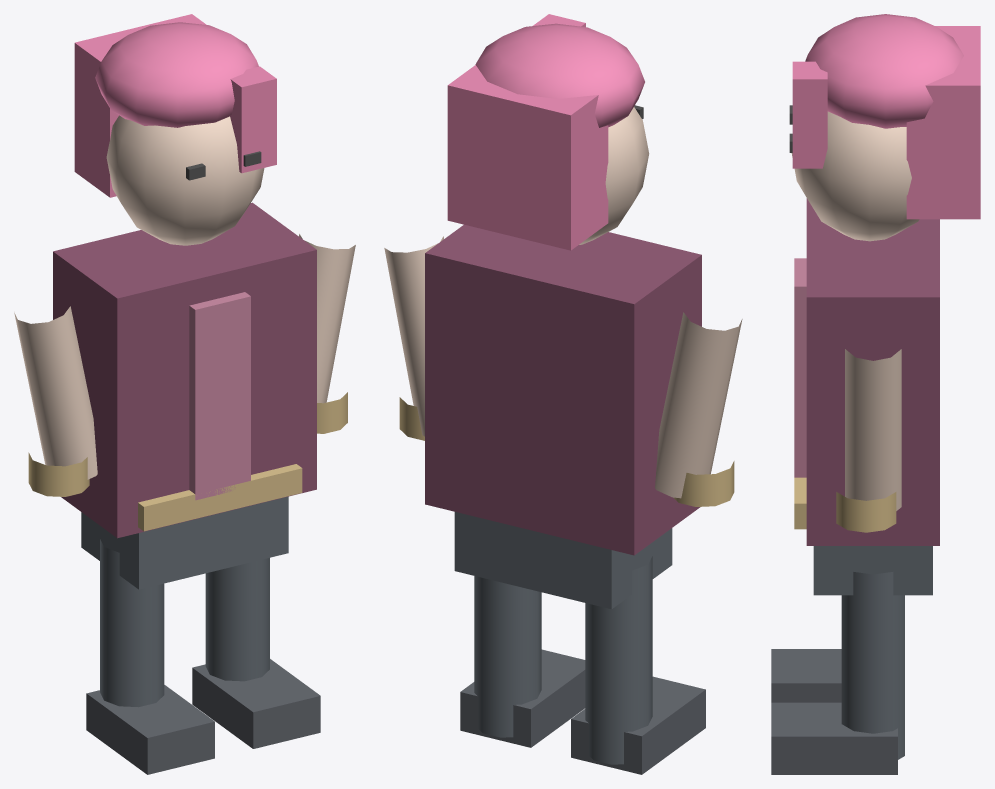
3 views of the same model, side by side, from view 1: azimuth 30°, elevation 25°; view 2: azimuth 150°, elevation 25°; view 3: azimuth 270°, elevation 25° (orthographic). The views are drawn at different scales.
Parts seen in each view (by area): view 1: Torso, Head, HairCap, Vest, Pelvis, ArmL, LegL, FootL, FootR, LegR, HairBack, Belt (+4 smaller); view 2: Torso, HairBack, Pelvis, HairCap, LegL, ArmL, LegR, FootL, FootR, ArmR, Head, CuffL (+1 smaller); view 3: Torso, HairCap, HairBack, Head, LegR, ArmR, FootR, Pelvis, FootL, HairLock, Vest, CuffR (+1 smaller).
Boxes of the visible parts, x1,y1,x2,y2 form: Torso: (53,202,316,538); Head: (106,115,264,245); HairCap: (95,22,258,127); Vest: (189,292,250,500); Pelvis: (81,496,288,589); ArmL: (14,306,97,479); LegL: (100,539,164,707); FootL: (86,685,214,774); FootR: (192,659,320,748); LegR: (205,558,269,681); HairBack: (74,14,206,197); Belt: (138,464,302,531); Torso: (425,224,701,555); HairBack: (447,65,608,250); Pelvis: (454,512,672,609); HairCap: (475,23,644,127); LegL: (585,556,652,764); ArmL: (655,312,742,498); LegR: (474,576,541,737); FootL: (571,676,705,774); FootR: (460,649,585,747); ArmR: (384,236,443,436); Head: (579,107,649,244); CuffL: (673,461,734,506); Torso: (806,198,939,545); HairCap: (805,14,963,128); HairBack: (906,26,980,219); Head: (791,111,919,241); LegR: (841,572,904,759); ArmR: (845,349,901,510); FootR: (771,702,897,774); Pelvis: (813,546,932,595); FootL: (771,649,841,702); HairLock: (792,61,827,168); Vest: (794,258,806,477); CuffR: (836,492,896,532).
Bounding box in the file's own units: 1.14 × 2.21 × 0.595.
